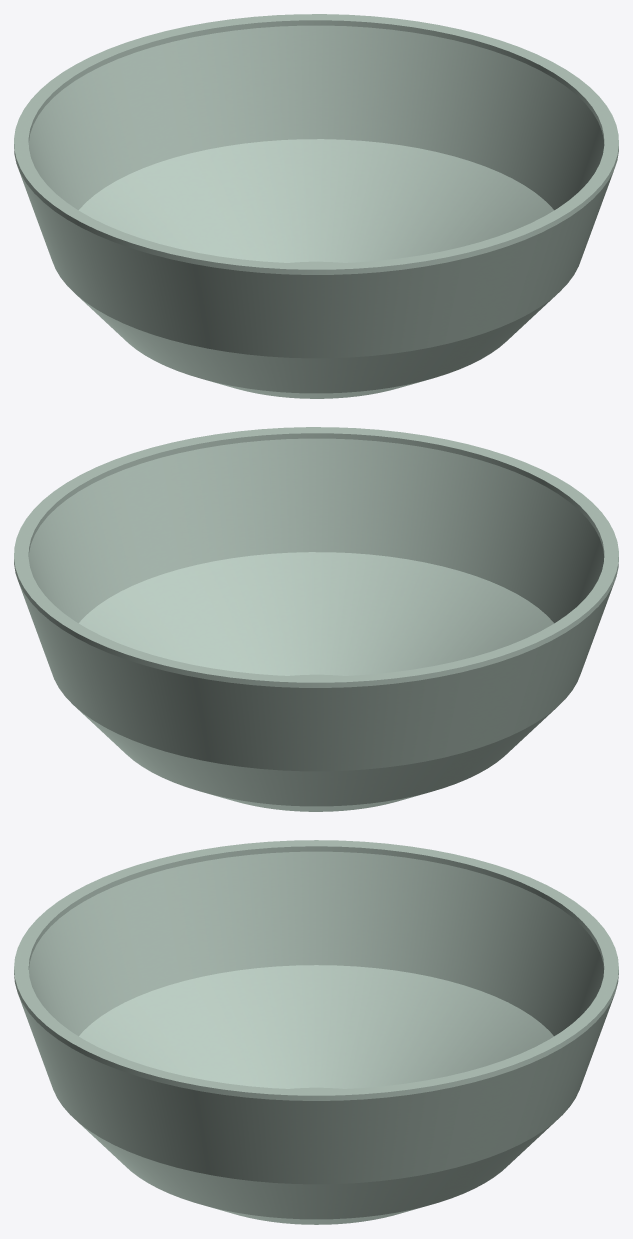
The model's file is misc_com_redware_bowl.dae.
3 renders of one model, top to bottom at view 1: azimuth 30°, elevation 25°; view 2: azimuth 150°, elevation 25°; view 3: azimuth 270°, elevation 25°, orthographic.
Parts seen in each view (by area): view 1: porcelain; view 2: porcelain; view 3: porcelain.
Boxes of the visible parts, x1,y1,x2,y2 form: porcelain: (14,14,618,398); porcelain: (14,427,618,811); porcelain: (14,840,618,1224).
Size of the model in its own units: 31.33 by 31.33 by 11.4.
